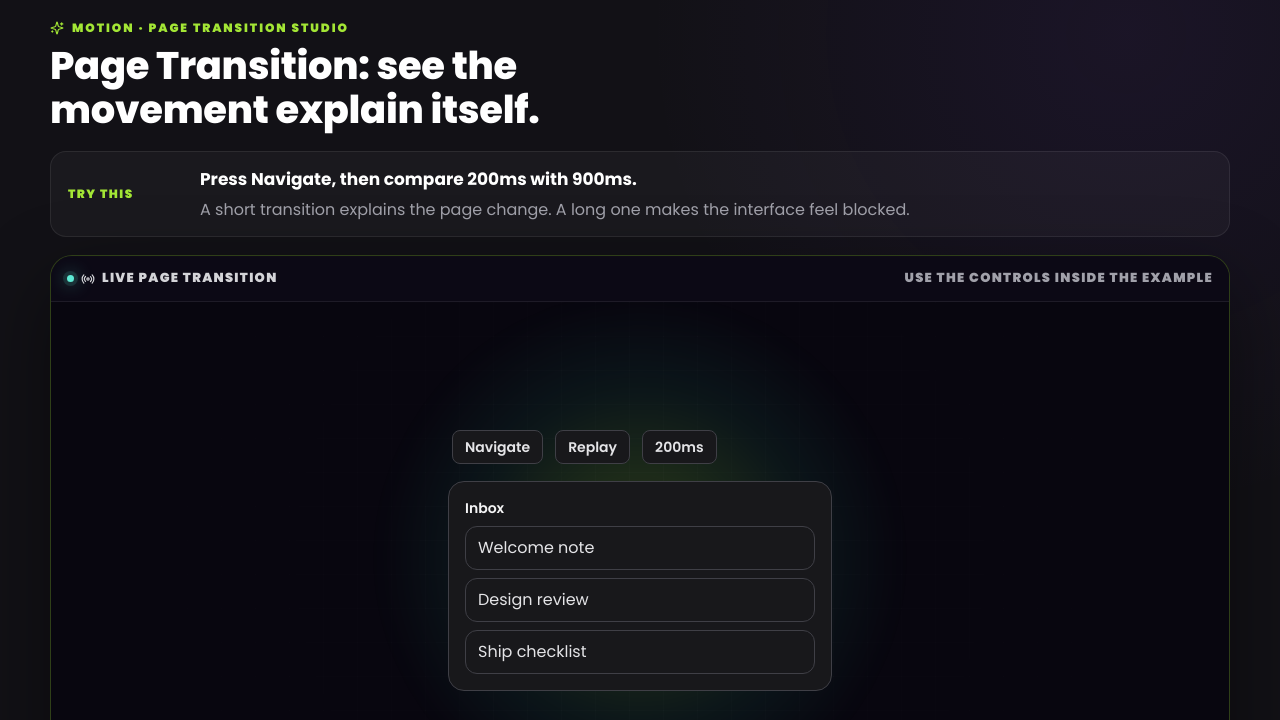
#25 motion pattern previews are real › Page Transition has List to Detail with Navigate and Replay
The image size is (1280, 720).
Expected: the element showing "Inbox Welcome note Design review Ship checklist" is shown, top-left (449, 482), bottom-right (831, 690)
Click the button with aria-label "Navigate to detail". click: (498, 447)
box: top-left (448, 425), bottom-right (547, 469)
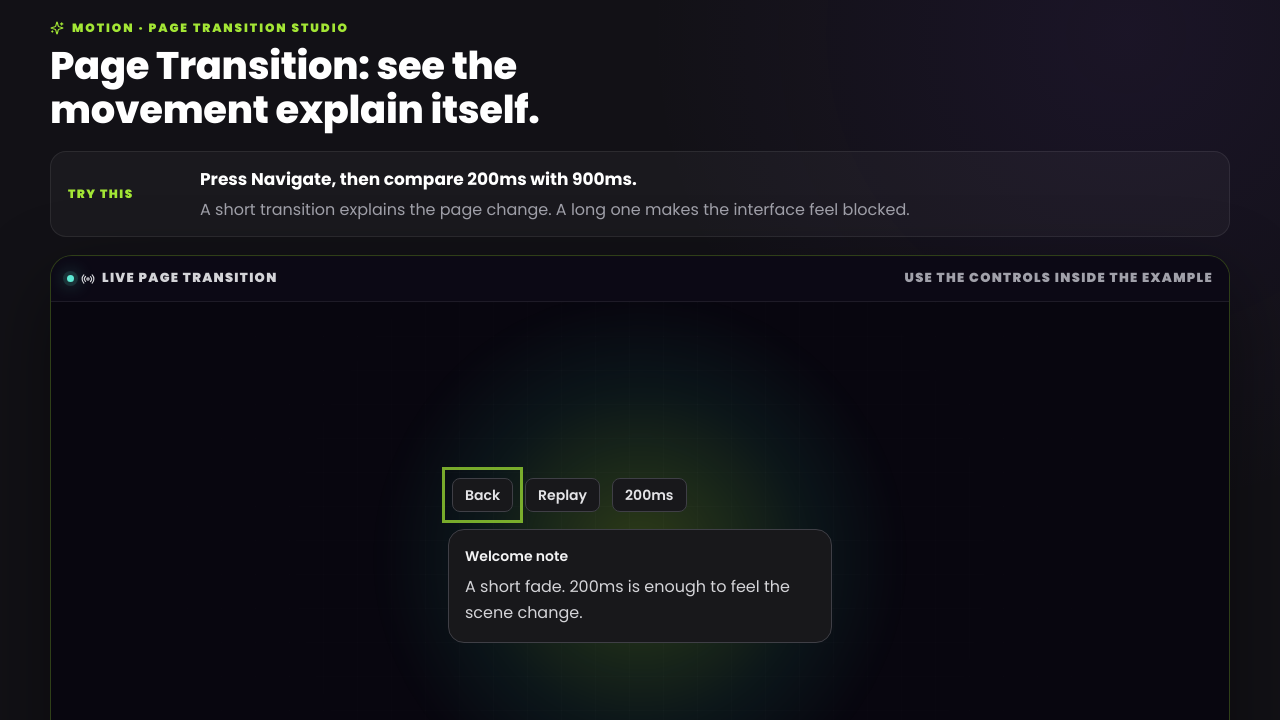
Expected: the button with aria-label "Replay page transition" is shown, top-left (521, 473), bottom-right (604, 517)
Expected: the text "A short fade. 200ms is enough to feel the scene change." is shown, top-left (465, 574), bottom-right (815, 626)
